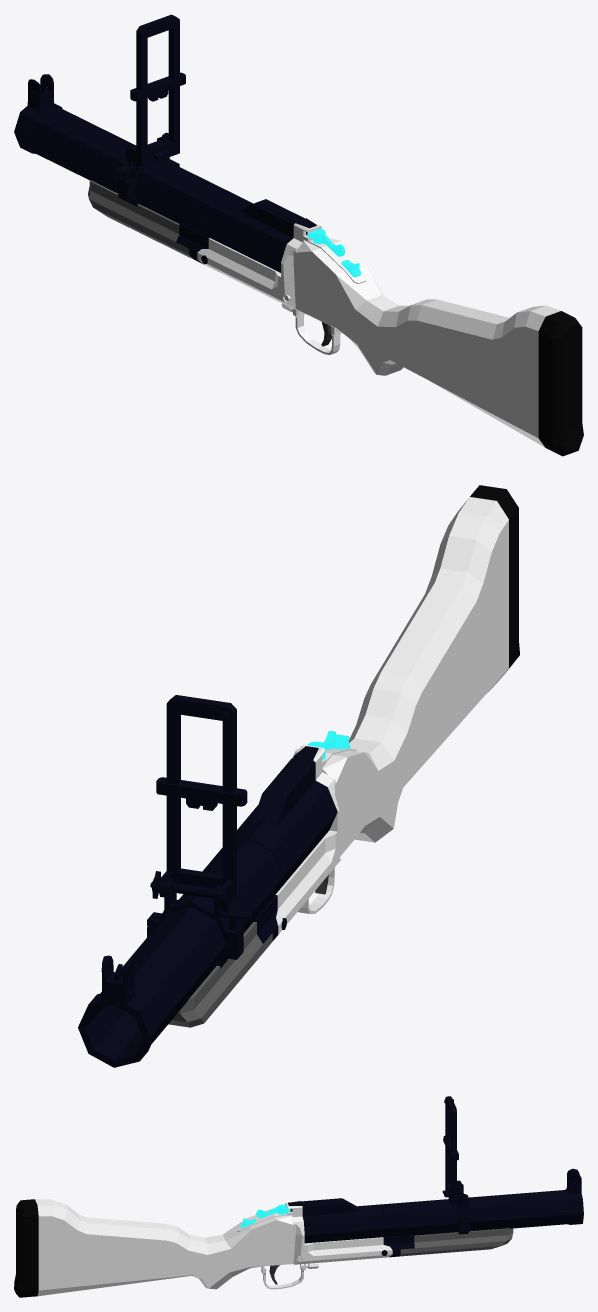
File: granatnik.glb
3 renders of one model, top to bottom at view 1: azimuth 30°, elevation 25°; view 2: azimuth 150°, elevation 25°; view 3: azimuth 270°, elevation 25°, orthographic. The views are drawn at different scales.
Parts seen in each view (by area): view 1: Cube_2, Cylinder_001_3; view 2: Cylinder_001_3, Cube_2; view 3: Cube_2, Cylinder_001_3.
Boxes of the visible parts, x1,y1,x2,y2 form: Cube_2: [197, 221, 583, 456]; Cylinder_001_3: [14, 14, 316, 272]; Cylinder_001_3: [78, 695, 337, 1067]; Cube_2: [275, 485, 519, 934]; Cube_2: [14, 1199, 392, 1297]; Cylinder_001_3: [288, 1096, 583, 1257].
Bounding box in the file's own units: 0.4245 × 0.5895 × 1.77.
